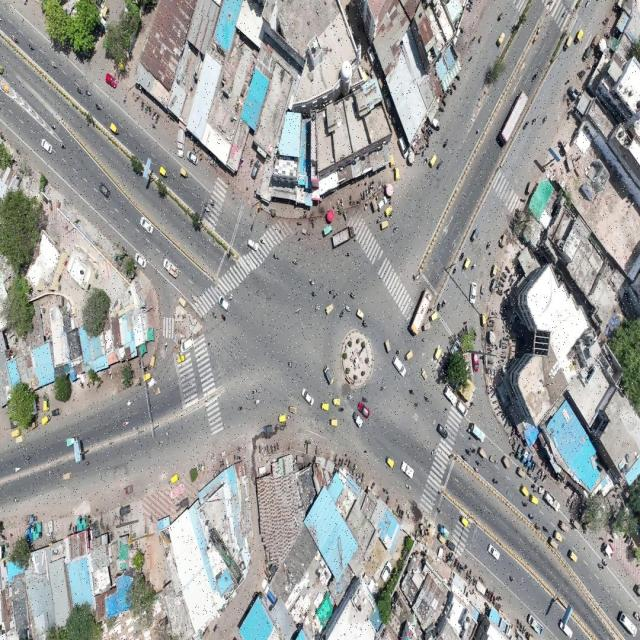3W: (567, 549, 580, 566), (521, 485, 533, 502), (324, 364, 334, 384), (459, 512, 469, 530), (502, 452, 513, 468), (384, 205, 395, 221), (582, 11, 591, 30), (553, 531, 565, 544), (440, 108, 449, 125), (360, 389, 370, 404), (441, 89, 448, 108), (177, 354, 187, 367), (315, 416, 325, 428), (405, 351, 415, 363), (431, 308, 438, 324), (383, 342, 392, 354), (479, 447, 488, 459), (327, 299, 334, 314), (169, 473, 179, 483), (305, 257, 315, 267), (43, 485, 54, 494), (435, 345, 442, 359), (356, 307, 364, 319), (41, 417, 51, 426), (12, 429, 21, 439), (141, 371, 151, 380), (451, 66, 460, 76), (297, 302, 303, 317), (312, 404, 321, 414), (386, 459, 396, 468), (331, 420, 339, 430), (430, 155, 436, 168), (464, 257, 470, 270), (181, 166, 188, 177), (381, 221, 389, 230), (532, 495, 538, 507), (489, 220, 495, 232), (111, 122, 118, 132), (62, 473, 70, 481), (184, 307, 191, 316), (160, 167, 167, 174), (334, 397, 340, 404)
Bus: (410, 280, 431, 340)
Cars: (140, 214, 156, 239), (393, 354, 407, 382), (218, 298, 233, 318), (436, 418, 449, 440), (487, 540, 501, 560), (470, 353, 481, 376), (134, 251, 147, 270), (357, 399, 370, 418), (445, 386, 456, 406), (469, 280, 478, 304), (40, 140, 53, 155), (402, 460, 413, 477), (302, 389, 315, 403), (98, 183, 109, 199), (248, 235, 259, 251), (276, 410, 289, 423), (179, 341, 195, 351), (458, 400, 468, 416), (0, 483, 14, 494)
LCV: (468, 415, 487, 442), (163, 259, 179, 276), (352, 412, 363, 430), (321, 403, 333, 418), (146, 376, 158, 391), (438, 526, 451, 539), (121, 483, 134, 495), (287, 361, 297, 374), (472, 37, 479, 50), (68, 438, 77, 445)
M2W: (441, 134, 451, 149), (419, 369, 428, 385), (420, 157, 430, 168), (509, 573, 516, 588), (360, 320, 369, 331), (208, 310, 217, 321), (308, 276, 315, 290), (494, 139, 500, 155), (338, 308, 345, 320), (413, 401, 420, 413), (521, 500, 528, 512), (543, 525, 550, 537), (220, 312, 227, 324), (379, 383, 388, 392), (374, 214, 383, 223), (491, 475, 499, 485), (315, 300, 321, 313), (328, 283, 335, 294), (333, 291, 341, 300), (435, 161, 444, 169), (533, 522, 541, 531), (630, 589, 636, 601), (435, 303, 442, 313), (367, 381, 374, 391), (291, 257, 298, 266), (345, 306, 352, 315), (528, 513, 535, 522), (430, 448, 439, 455), (209, 199, 215, 209), (389, 211, 395, 221), (337, 375, 343, 385), (410, 386, 416, 396), (264, 245, 271, 253), (518, 110, 525, 118), (438, 507, 445, 515), (348, 391, 354, 400), (423, 395, 429, 404), (340, 350, 345, 360), (188, 328, 195, 335), (345, 251, 352, 258), (312, 290, 319, 297), (273, 254, 279, 262), (394, 224, 400, 232), (405, 482, 411, 490), (350, 292, 356, 299), (470, 516, 475, 524), (461, 252, 465, 262), (339, 406, 344, 414)
MAV: (538, 483, 562, 511), (331, 224, 357, 247)
